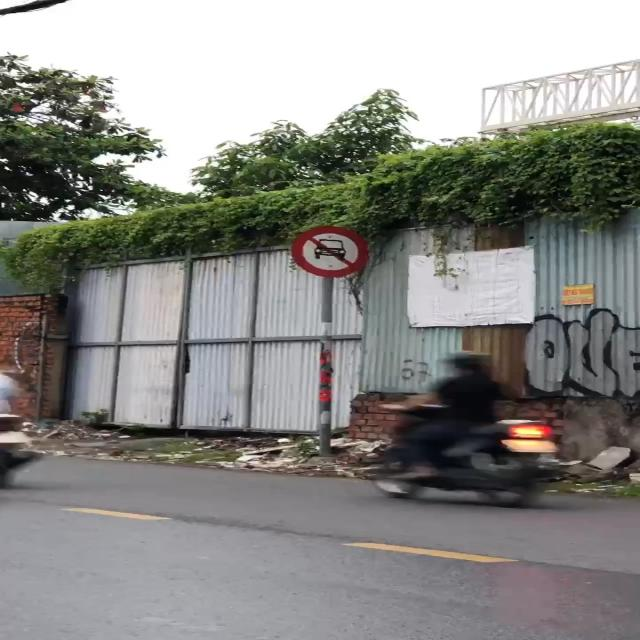Bien bao cam xe oto: (288, 224, 374, 276)
